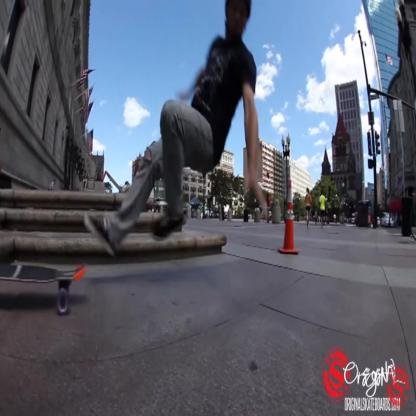Fall_Down: (82, 3, 268, 259)
